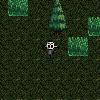Jason: (39, 40, 60, 59)
Obstacle: (48, 16, 67, 37)
Slow: (68, 37, 88, 57), (8, 0, 28, 16), (88, 17, 100, 37)
